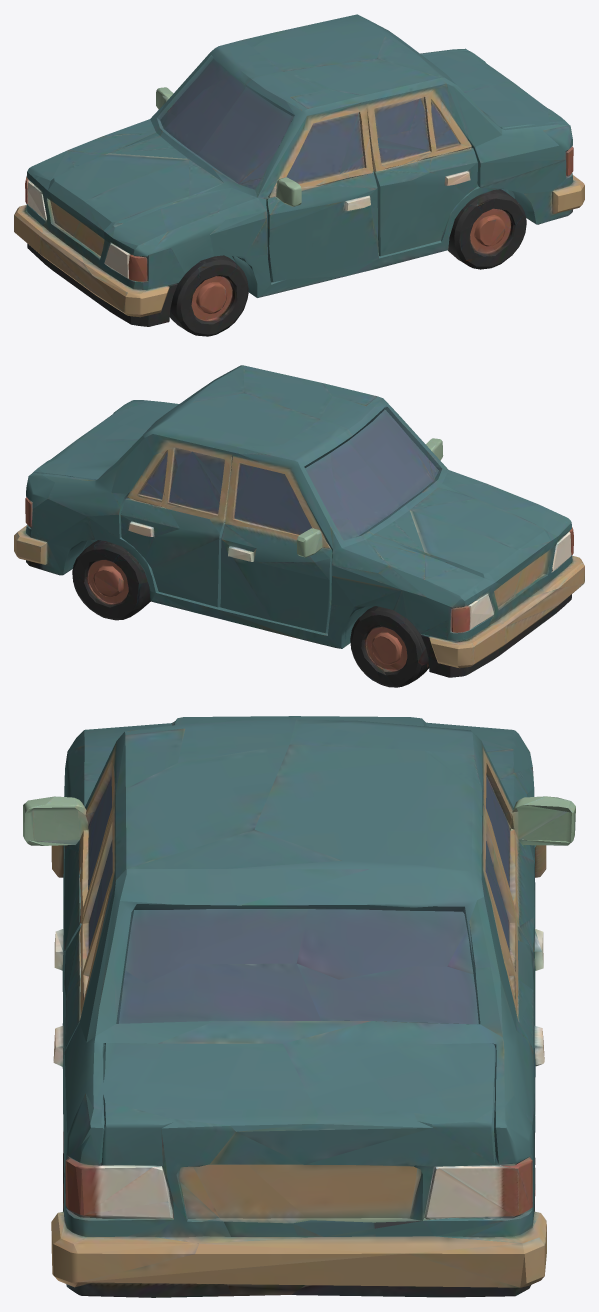
Rendered from sedan.glb.
3 views of the same model, one above another, from view 1: azimuth 30°, elevation 25°; view 2: azimuth 150°, elevation 25°; view 3: azimuth 270°, elevation 25° (orthographic). The views are drawn at different scales.
Bounding box in the file's own units: 1.9 × 0.7649 × 0.9854.
1 material, 1 textured.
